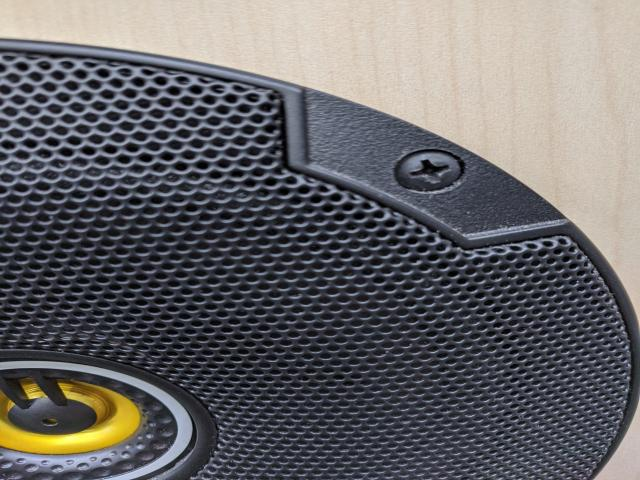CRS: (395, 145, 467, 195)
